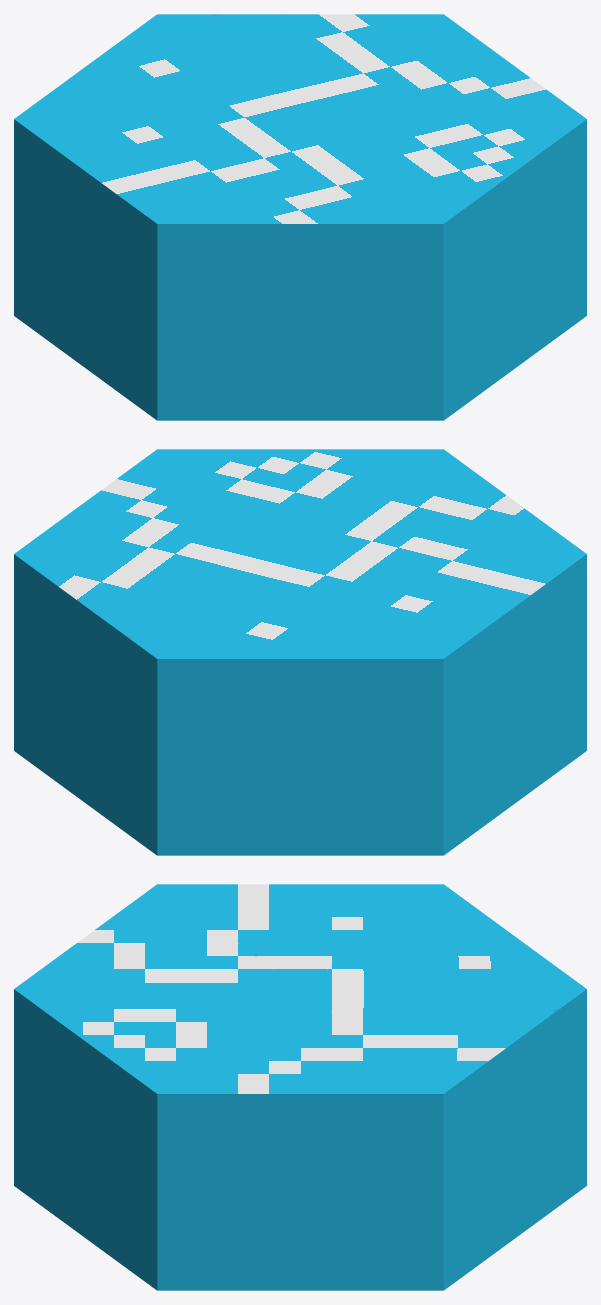
File: water.obj
The picture shows the model from 3 angles, top to bottom: view 1: azimuth 30°, elevation 25°; view 2: azimuth 150°, elevation 25°; view 3: azimuth 270°, elevation 25°; orthographic projection.
Parts seen in each view (by area): view 1: cylinder; view 2: cylinder; view 3: cylinder.
Boxes of the visible parts, x1=… form: cylinder: x1=14, y1=14, x2=586, y2=420; cylinder: x1=14, y1=449, x2=586, y2=855; cylinder: x1=14, y1=884, x2=586, y2=1290.
Bounding box in the file's own units: 1 × 0.4375 × 1.15.
Materials: 1 (1 with a texture image).
